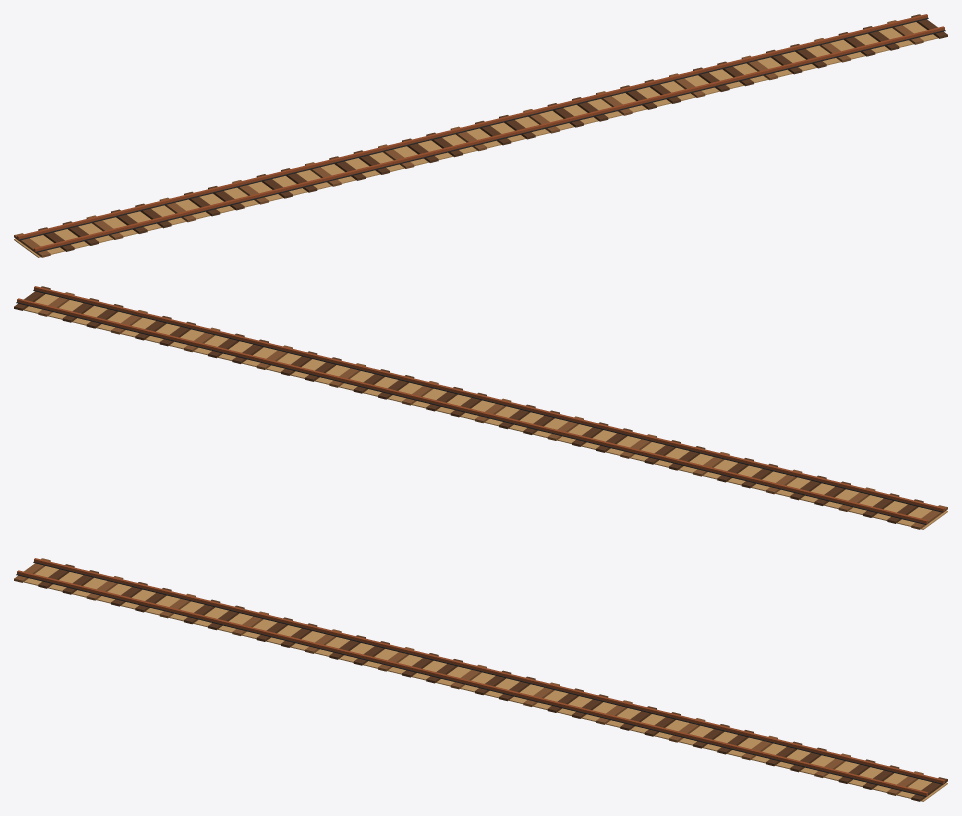
File: LobbyTrack.fbx
3 renders of one model, top to bottom at view 1: azimuth 30°, elevation 25°; view 2: azimuth 150°, elevation 25°; view 3: azimuth 330°, elevation 25°, orthographic.
Parts seen in each view (by area): view 1: Ties, Rails; view 2: Ties, Rails; view 3: Ties, Rails.
Part boxes in pixels (bbox=[...]): Ties: bbox=[14, 14, 947, 257]; Rails: bbox=[16, 14, 945, 252]; Ties: bbox=[14, 286, 947, 529]; Rails: bbox=[16, 286, 945, 524]; Ties: bbox=[14, 558, 947, 801]; Rails: bbox=[16, 558, 945, 796].
Size of the model in its own units: 150 by 1 by 8.
